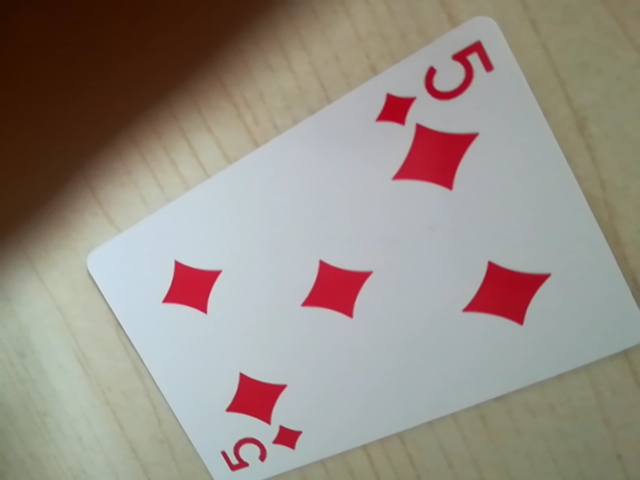fk 5: (378, 34, 493, 129), (215, 421, 304, 480)
